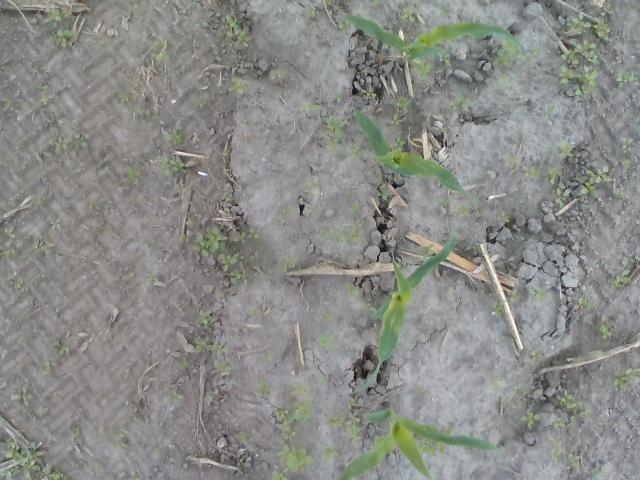Maize: (365, 236, 455, 386), (338, 401, 498, 480), (354, 108, 466, 196), (343, 13, 518, 63)
Weeds: (558, 6, 614, 96), (194, 224, 260, 286), (0, 437, 67, 480), (274, 405, 314, 471), (43, 6, 82, 48), (574, 158, 617, 193), (224, 12, 253, 49), (323, 415, 362, 442), (556, 388, 592, 416), (522, 162, 562, 186), (497, 38, 528, 68), (388, 95, 414, 128), (584, 312, 613, 338), (550, 418, 566, 464), (350, 200, 367, 243), (40, 135, 72, 157), (322, 112, 349, 138), (318, 226, 353, 246), (455, 192, 481, 218), (160, 154, 190, 176), (488, 374, 513, 400), (419, 436, 448, 458), (193, 336, 232, 352), (614, 367, 640, 391), (516, 409, 544, 431), (120, 166, 142, 192), (154, 33, 172, 64), (289, 383, 313, 404), (160, 126, 184, 146), (316, 330, 336, 354), (10, 271, 30, 295), (526, 286, 552, 304), (412, 59, 434, 80), (229, 75, 249, 97), (608, 269, 632, 287), (615, 71, 640, 88), (400, 6, 420, 26), (556, 137, 575, 158), (320, 444, 338, 466), (501, 148, 520, 168), (554, 186, 572, 207), (255, 376, 272, 398), (576, 296, 602, 310), (0, 94, 20, 112), (448, 96, 472, 110), (280, 254, 296, 275), (34, 239, 55, 255), (304, 176, 320, 197), (214, 360, 234, 376), (15, 386, 34, 402), (488, 297, 503, 317), (245, 303, 262, 320), (344, 280, 362, 296), (175, 353, 192, 369), (196, 310, 210, 329), (164, 390, 186, 402), (612, 183, 626, 201), (439, 48, 454, 64), (56, 342, 72, 357), (136, 192, 152, 207), (2, 224, 16, 241), (304, 6, 316, 25), (566, 454, 578, 473), (376, 186, 391, 201), (390, 136, 406, 150), (622, 136, 635, 153), (348, 143, 361, 160), (509, 287, 522, 304), (302, 102, 322, 113), (234, 431, 254, 442), (326, 138, 338, 155), (332, 88, 343, 106), (74, 132, 88, 146), (42, 362, 56, 376), (196, 94, 208, 110), (48, 218, 64, 230), (0, 248, 17, 259), (336, 19, 348, 34), (360, 88, 378, 98), (278, 206, 288, 224), (144, 271, 160, 282), (271, 470, 288, 480), (441, 425, 458, 435), (622, 158, 636, 170), (498, 210, 512, 222), (418, 245, 433, 256), (127, 2, 138, 17), (192, 20, 210, 29), (118, 368, 130, 381), (34, 195, 46, 207), (111, 471, 127, 480), (260, 350, 272, 362), (336, 150, 348, 162), (532, 350, 544, 362), (416, 384, 429, 395), (496, 71, 509, 82), (362, 302, 376, 312), (344, 398, 358, 408), (71, 424, 81, 438), (130, 105, 145, 114), (530, 46, 542, 57), (223, 190, 234, 202), (590, 469, 602, 480), (270, 69, 283, 79), (174, 182, 187, 192), (471, 242, 482, 253), (34, 83, 49, 91), (590, 258, 600, 269), (440, 8, 450, 18), (325, 0, 336, 9), (118, 94, 129, 103), (111, 431, 125, 438), (324, 314, 336, 322), (116, 442, 129, 449), (368, 0, 386, 5), (40, 95, 49, 105), (629, 334, 640, 342), (629, 255, 640, 263), (181, 233, 190, 242), (320, 374, 328, 384), (570, 416, 576, 424)
